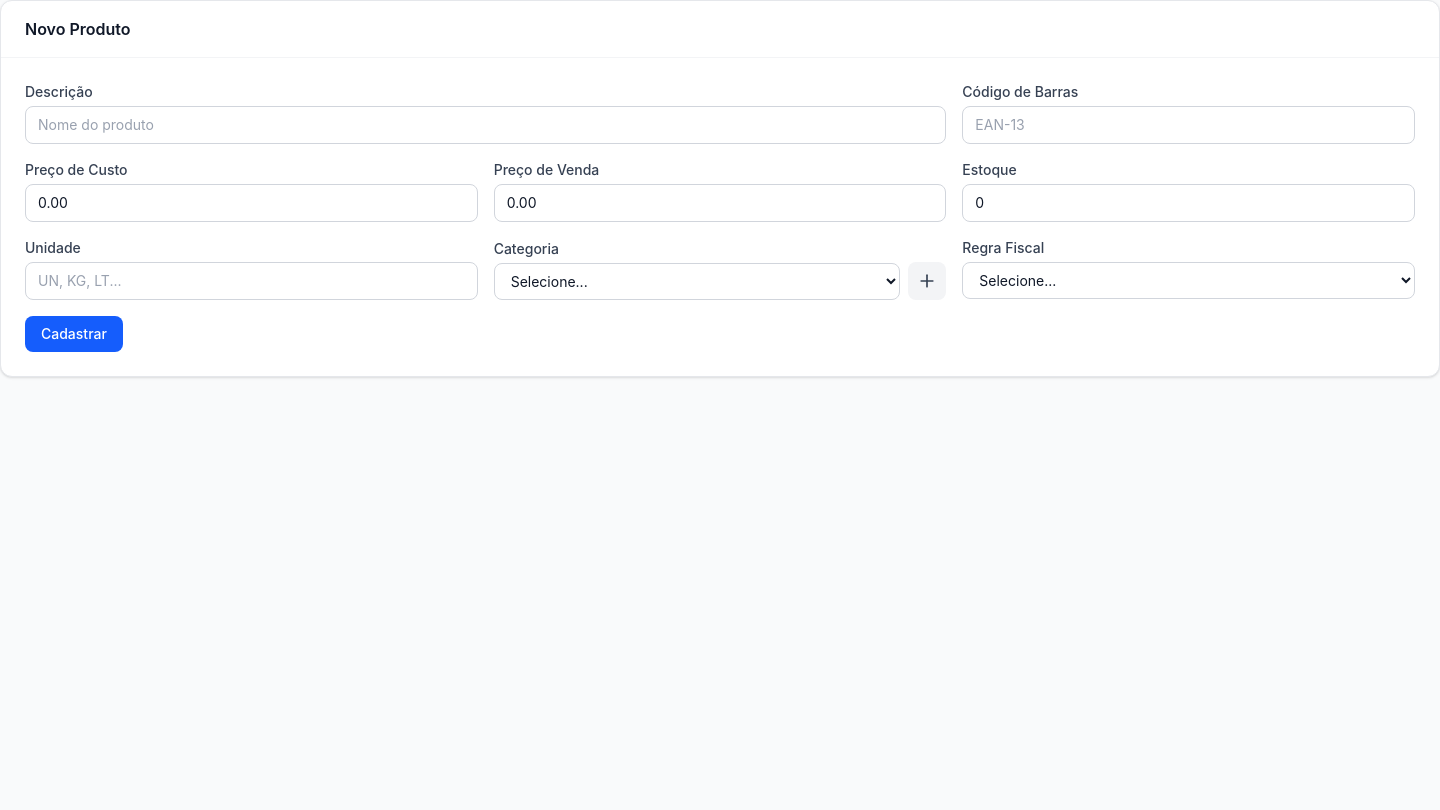
Test: ProdutoForm › should close the "Nova categoria" modal without creating when clicking "Fechar"
This screenshot has width=1440, height=810.
Click the button titled "Nova categoria". click: (927, 281)
box: x1=908 y1=262 x2=946 y2=300
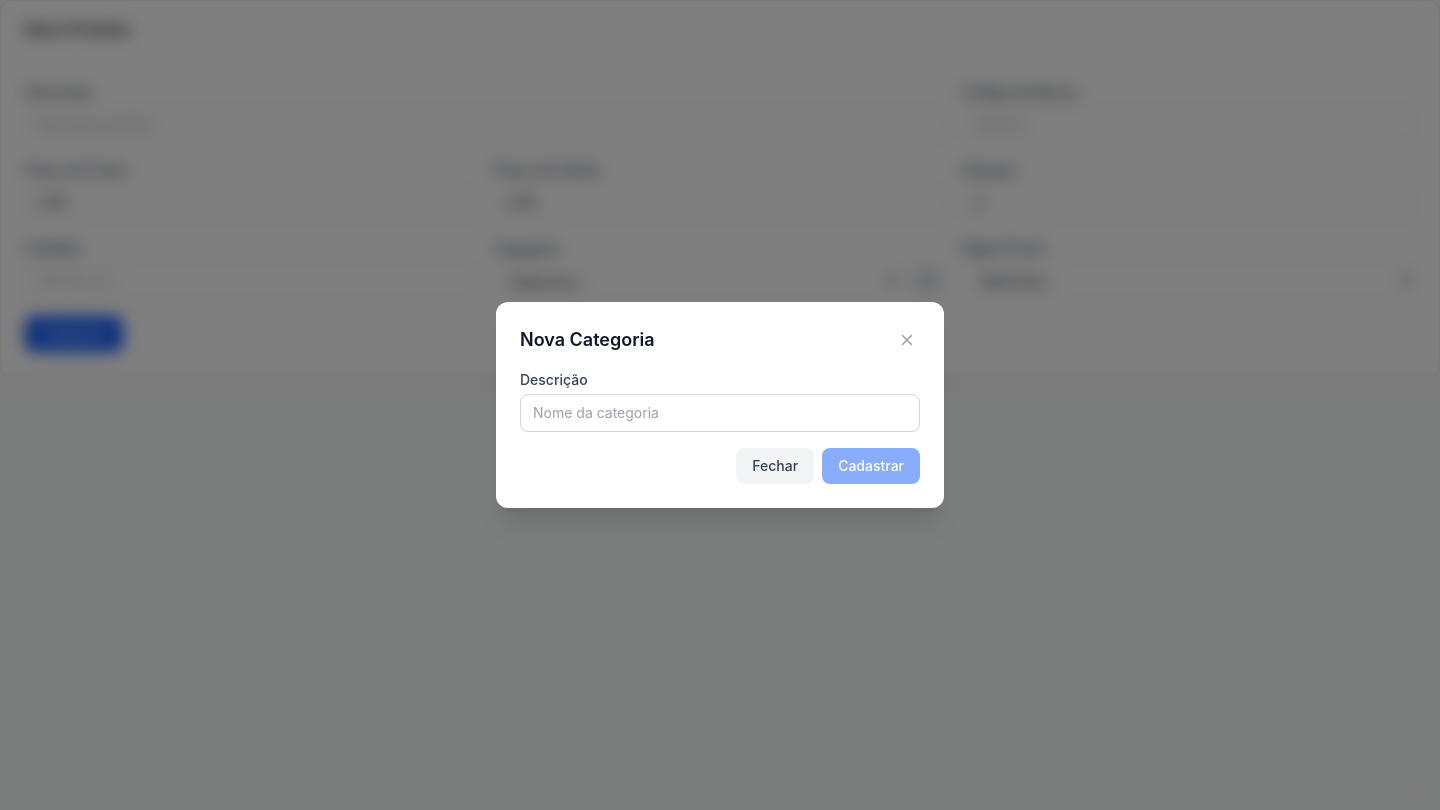
Now the heading "Nova Categoria" is shown, box x1=520 y1=326 x2=654 y2=354
Click the button "Fechar". click: (775, 466)
box: x1=736 y1=448 x2=814 y2=484
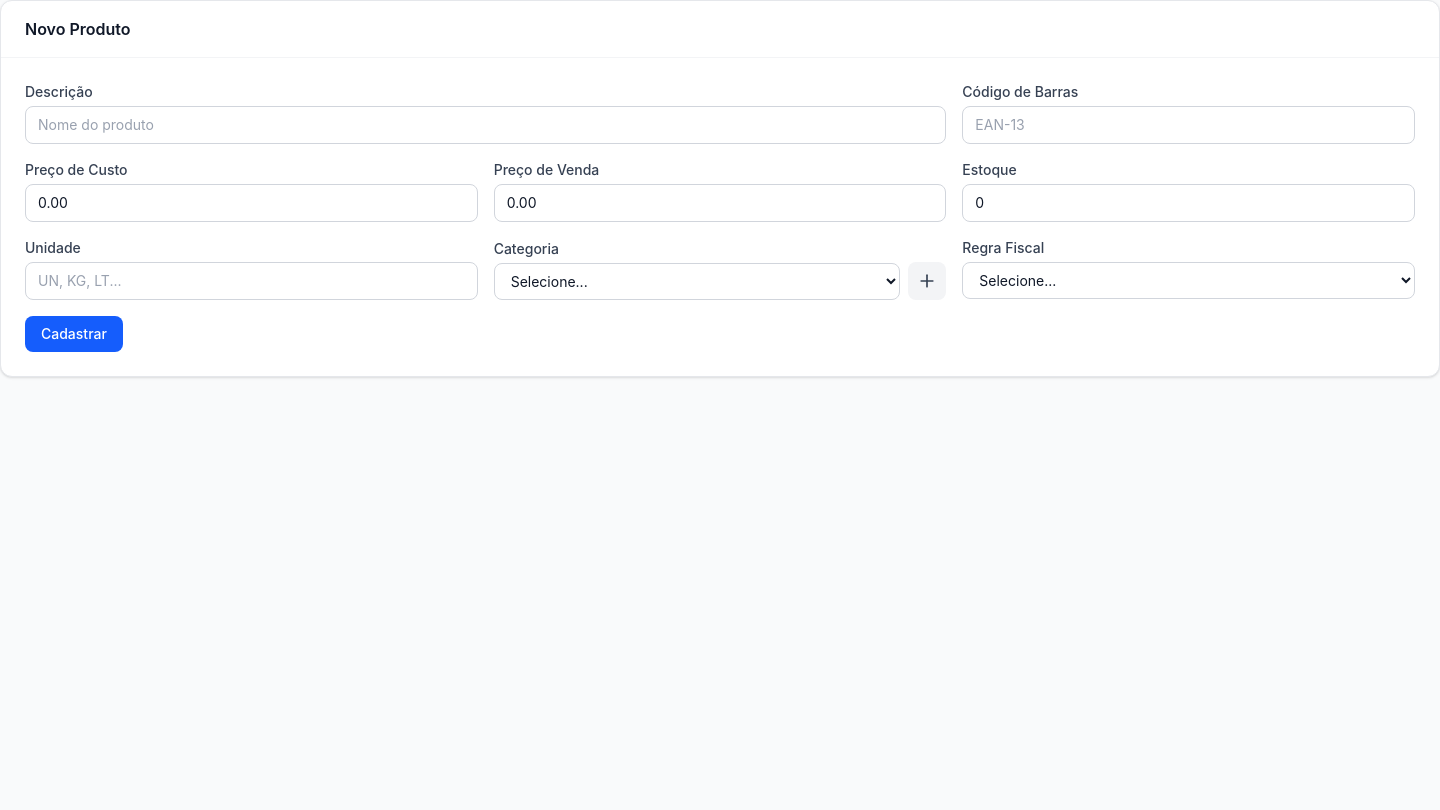
Now the heading "Nova Categoria" is gone
